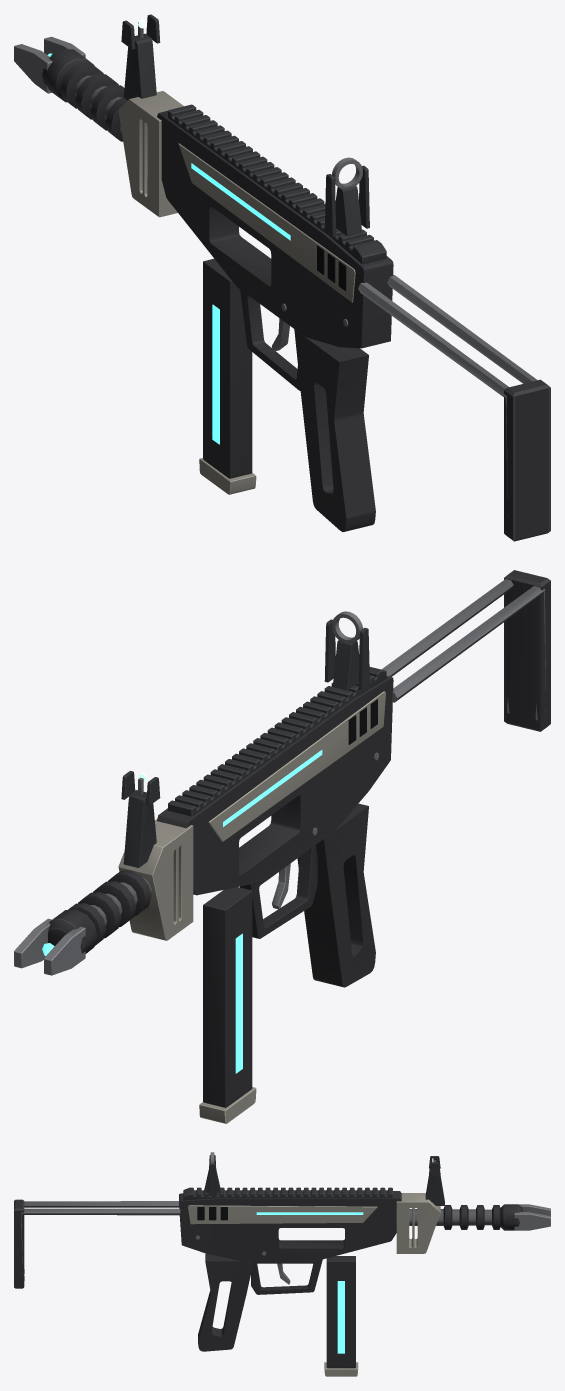
Rendered from e_smg.glb.
The picture shows the model from 3 angles, top to bottom: view 1: azimuth 30°, elevation 25°; view 2: azimuth 150°, elevation 25°; view 3: azimuth 270°, elevation 25°; orthographic projection. The views are drawn at different scales.
Visible parts, largest first — view 1: Body, ThirdPersonOnly, Cell, IronSight; view 2: Body, Cell, ThirdPersonOnly, IronSight; view 3: Body, Cell, ThirdPersonOnly, IronSight.
Part boxes in pixels (x1,y1,x2,y2): Body: (14,36,393,531); ThirdPersonOnly: (358,275,550,541); Cell: (199,258,256,494); IronSight: (121,14,369,236); Body: (14,667,393,987); Cell: (199,887,256,1123); ThirdPersonOnly: (381,570,550,731); IronSight: (121,611,369,867); Body: (179,1187,550,1351); Cell: (324,1256,358,1376); ThirdPersonOnly: (14,1199,180,1288); IronSight: (204,1152,444,1205).
Size of the model in its own units: 0.0357 by 0.3308 by 0.73.
